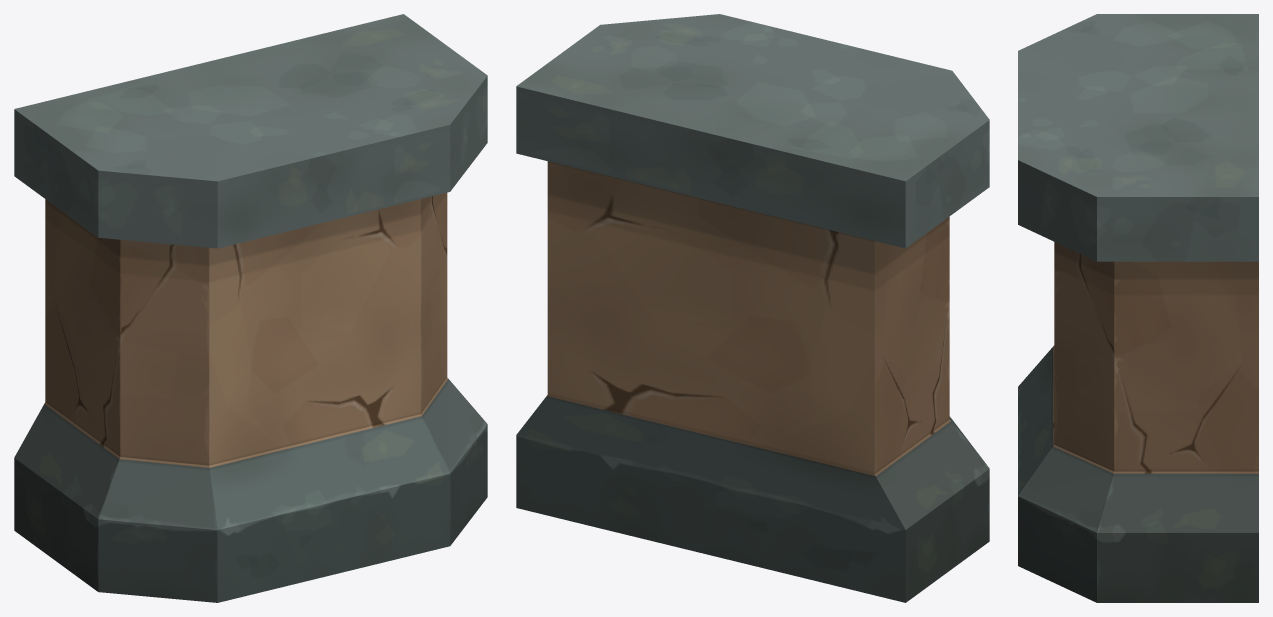
Rendered from Dg_01_pillar_10.FBX.
3 renders of one model, left to right at view 1: azimuth 30°, elevation 25°; view 2: azimuth 150°, elevation 25°; view 3: azimuth 270°, elevation 25°, orthographic. The views are drawn at different scales.
Parts seen in each view (by area): view 1: Dg_01_pillar_10; view 2: Dg_01_pillar_10; view 3: Dg_01_pillar_10.
Part boxes in pixels (x1,y1,x2,y2): Dg_01_pillar_10: (14,14,487,602); Dg_01_pillar_10: (516,14,989,602); Dg_01_pillar_10: (1018,14,1258,602).
Bounding box in the file's own units: 2.12 × 2.19 × 1.18.
